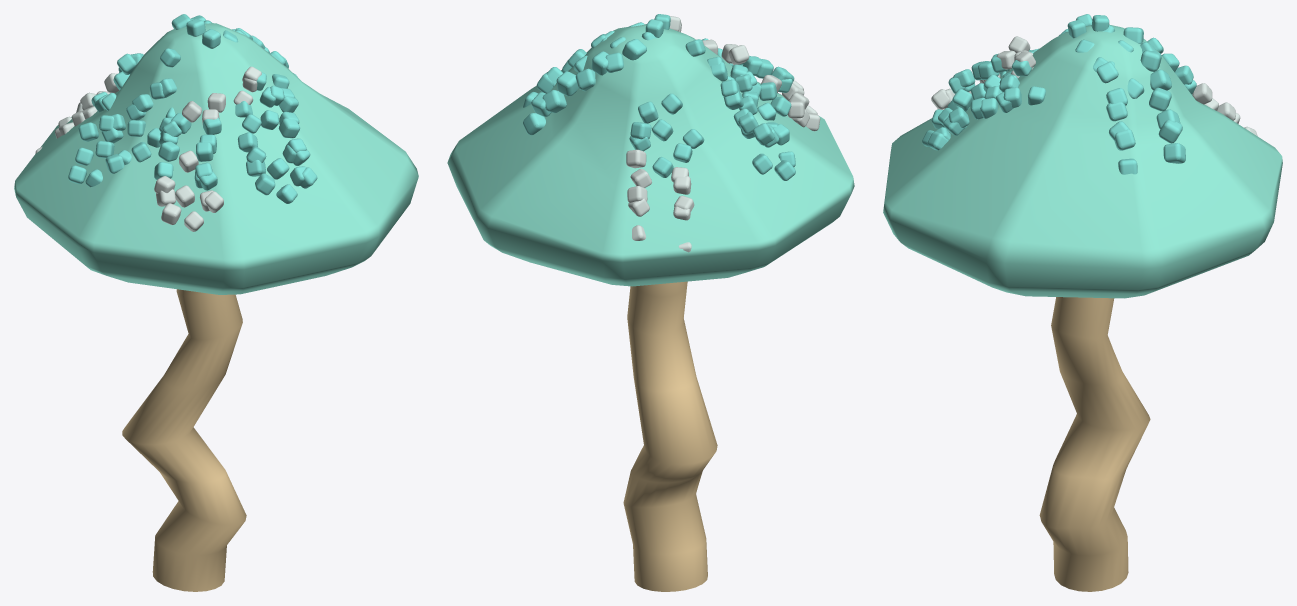
Rendered from Mush2.fbx.
3 renders of one model, left to right at view 1: azimuth 30°, elevation 25°; view 2: azimuth 150°, elevation 25°; view 3: azimuth 270°, elevation 25°, orthographic. The views are drawn at different scales.
Visible parts, largest first — view 1: group39_pasted__pCylinder2; view 2: group39_pasted__pCylinder2; view 3: group39_pasted__pCylinder2.
Part boxes in pixels (x1,y1,x2,y2): group39_pasted__pCylinder2: (14,14,418,591); group39_pasted__pCylinder2: (447,14,854,591); group39_pasted__pCylinder2: (883,14,1282,591).
Size of the model in its own units: 0.3847 by 0.6046 by 0.3871.
